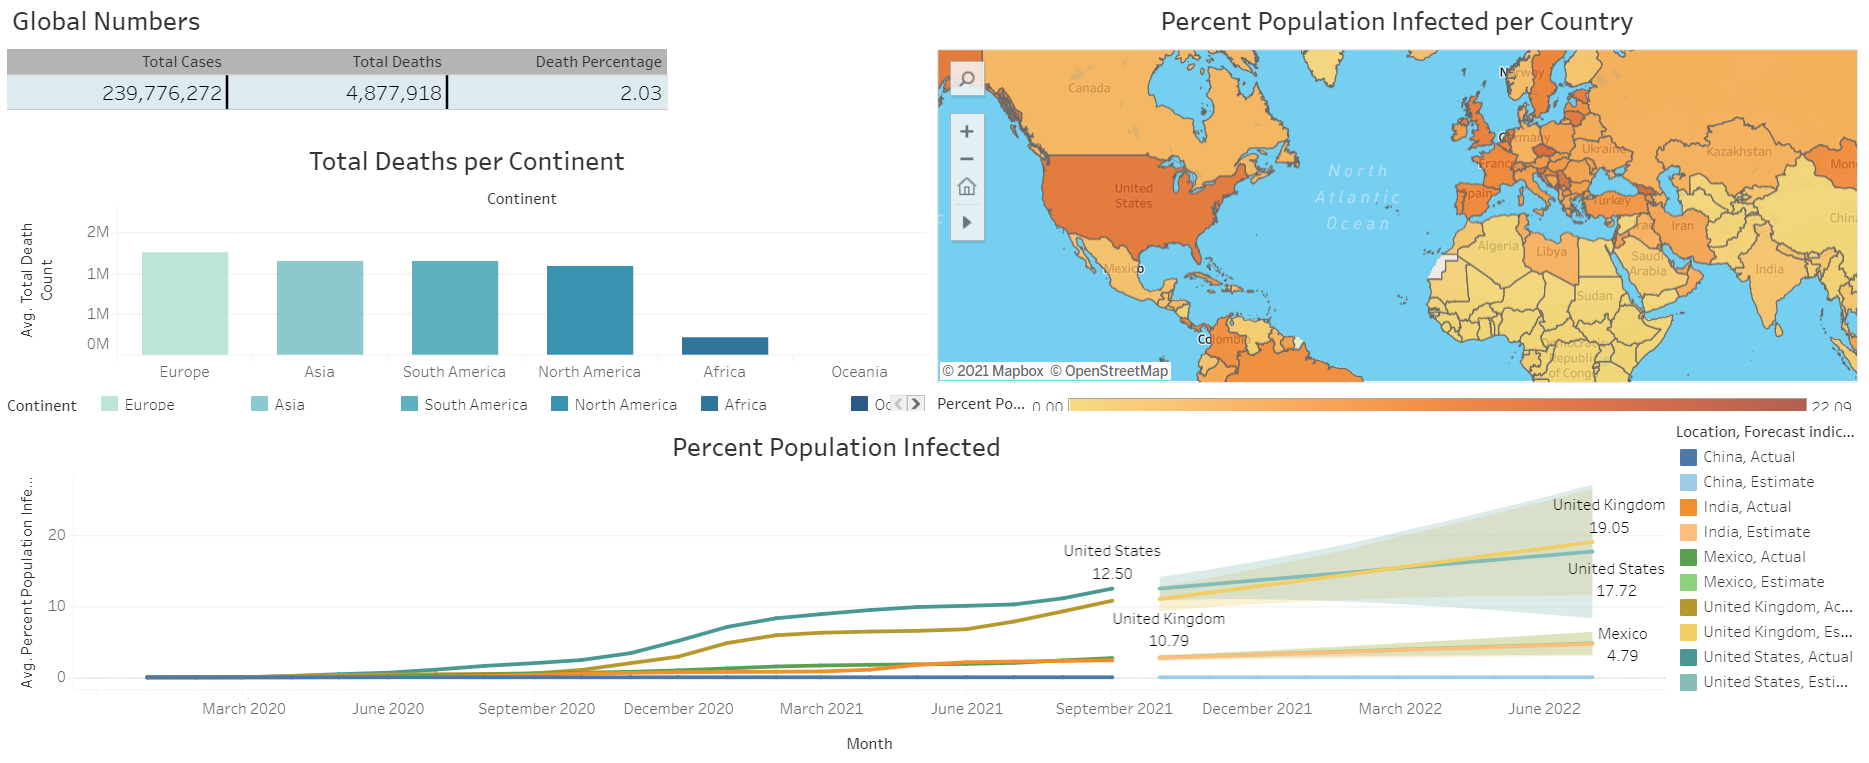

What the dashboard file says about the page in this screenshot:
{"tool":"tableau","page":{"name":"Dashboard 1","canvas":[1000,1000],"units":"permille","ordinal":0},"visuals":[{"type":"worksheet","title":"Sheet 1","mark":"Automatic","box":[4.8,9.3,494.9,176.5]},{"type":"worksheet","title":"Sheet 3","mark":"Automatic","box":[499.7,9.3,495.5,502.9]},{"type":"worksheet","title":"Sheet 2","mark":"Automatic","rows":["TotalDeathCount"],"cols":["location"],"box":[4.8,185.8,494.9,326.4]},{"type":"legend","title":"Sheet 2","param":"[federated.0eu8ja40gqj6z01cpzr731bkih2l].[none:location:nk]","box":[4.8,512.2,494.9,37.2]},{"type":"legend","title":"Sheet 3","param":"[federated.072e9if15rqrxu1cyqln60iyy8d6].[sum:PercentPopulationInfected:qk]","box":[499.7,512.2,495.5,37.2]},{"type":"worksheet","title":"Sheet 4","mark":"Automatic","rows":["PercentPopulationInfected"],"cols":["date"],"box":[4.8,549.4,888.1,441.4]},{"type":"legend","title":"Sheet 4","param":"[federated.05431og0ffa5d012ha43q1c1biqq].[none:Location:nk]\n[federated.05431og0f","box":[893,549.4,102.2,441.4]}]}

Visuals, with their boxes on the dashboard's canvas, which has no fixed pixel size, in thousandths of its width and height (x1, y1, x2, y2). These are canvas units, not pixel positions in the 1869x763 screenshot, which may show the page scaled, cropped or inside an application window:
"Sheet 1" worksheet: select_region(5, 9, 500, 186)
"Sheet 3" worksheet: select_region(500, 9, 995, 512)
"Sheet 2" worksheet: select_region(5, 186, 500, 512)
"Sheet 2" legend: select_region(5, 512, 500, 549)
"Sheet 3" legend: select_region(500, 512, 995, 549)
"Sheet 4" worksheet: select_region(5, 549, 893, 991)
"Sheet 4" legend: select_region(893, 549, 995, 991)
